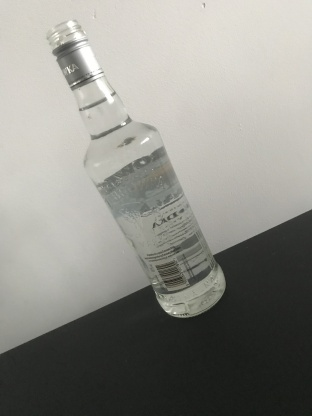nakretka: (43, 16, 106, 92)
